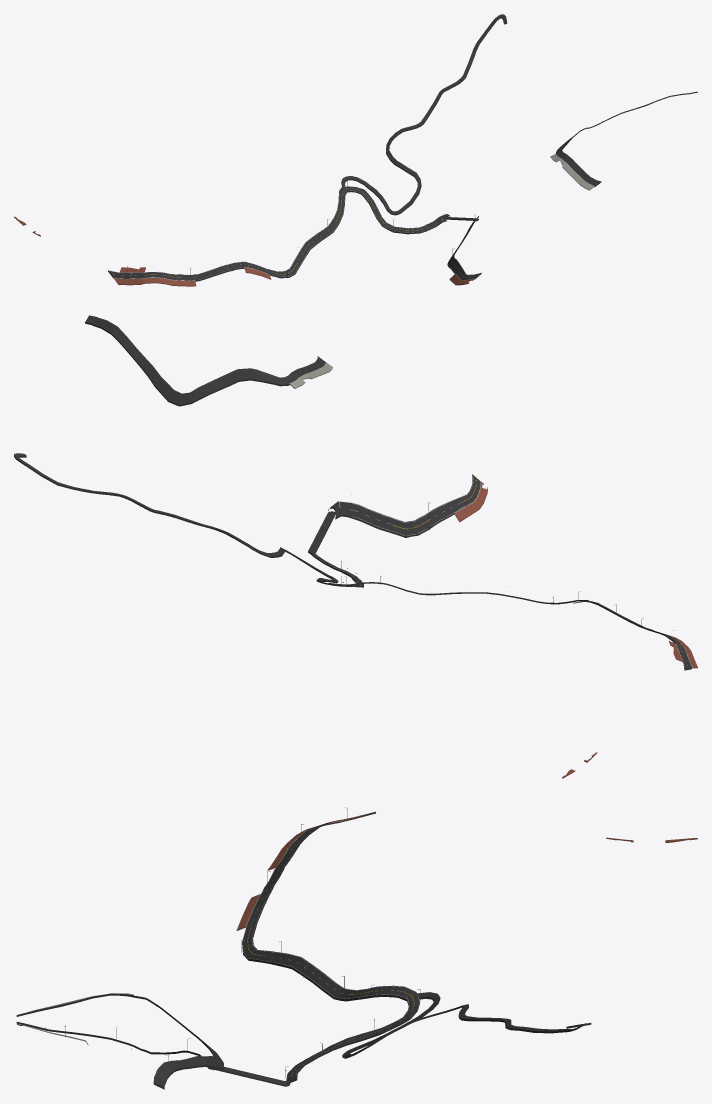
3 renders of one model, top to bottom at view 1: azimuth 30°, elevation 25°; view 2: azimuth 150°, elevation 25°; view 3: azimuth 270°, elevation 25°, orthographic. The views are drawn at different scales.
Size of the model in its own units: 589 by 125 by 386.
